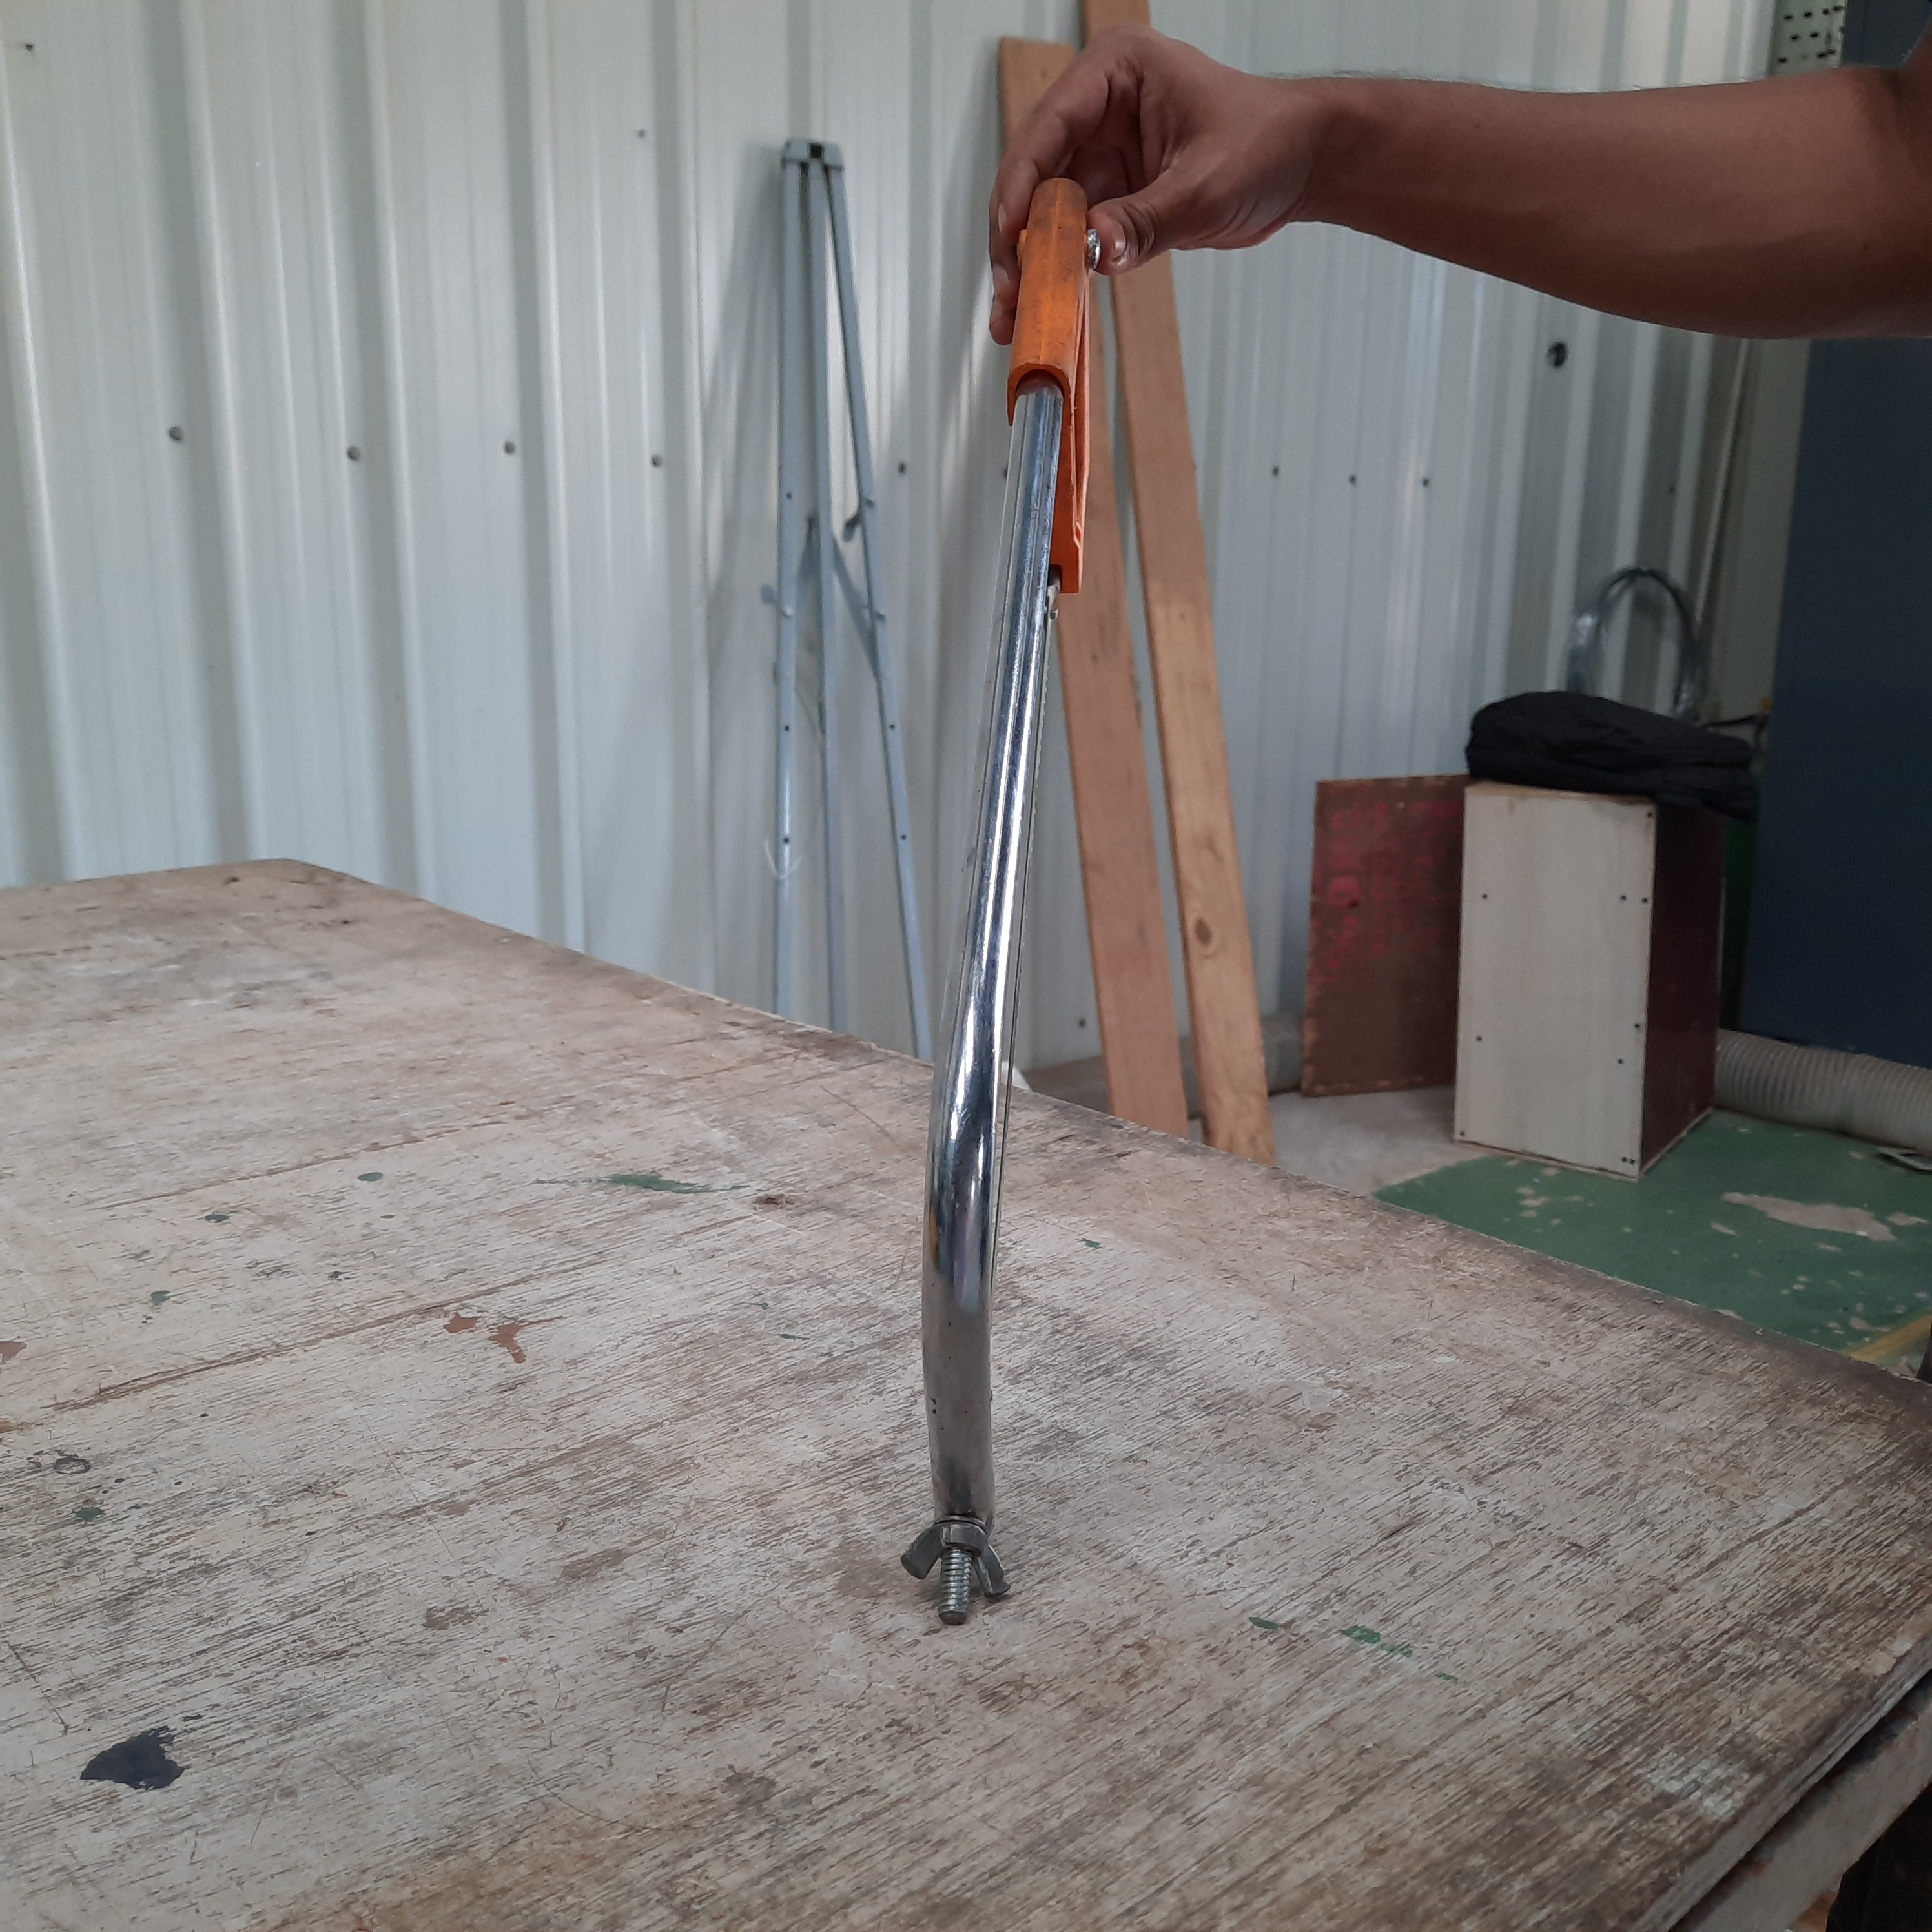Hexaframe: (862, 161, 1253, 1789)
